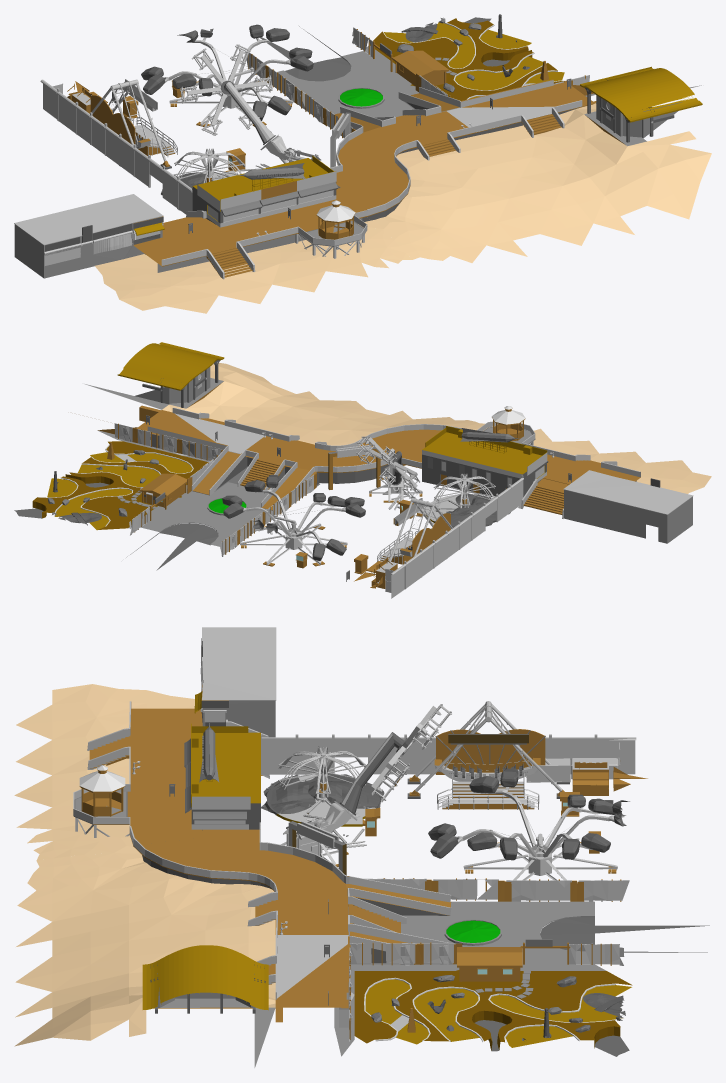
The model's file is brook_s_13.FBX.
3 views of the same model, one above another, from view 1: azimuth 30°, elevation 25°; view 2: azimuth 150°, elevation 25°; view 3: azimuth 270°, elevation 25° (orthographic). The views are drawn at different scales.
Visible parts, largest first — view 1: unnamed, null; view 2: unnamed, null; view 3: unnamed, null.
Boxes of the visible parts, left/top/right/bottom form: unnamed: left=14, top=14, right=711, bottom=313; null: left=40, top=44, right=288, bottom=198; unnamed: left=14, top=342, right=711, bottom=570; null: left=296, top=436, right=498, bottom=598; unnamed: left=14, top=627, right=709, bottom=1067; null: left=307, top=701, right=647, bottom=862.
Bounding box in the file's own units: 134 × 23.78 × 95.69.
